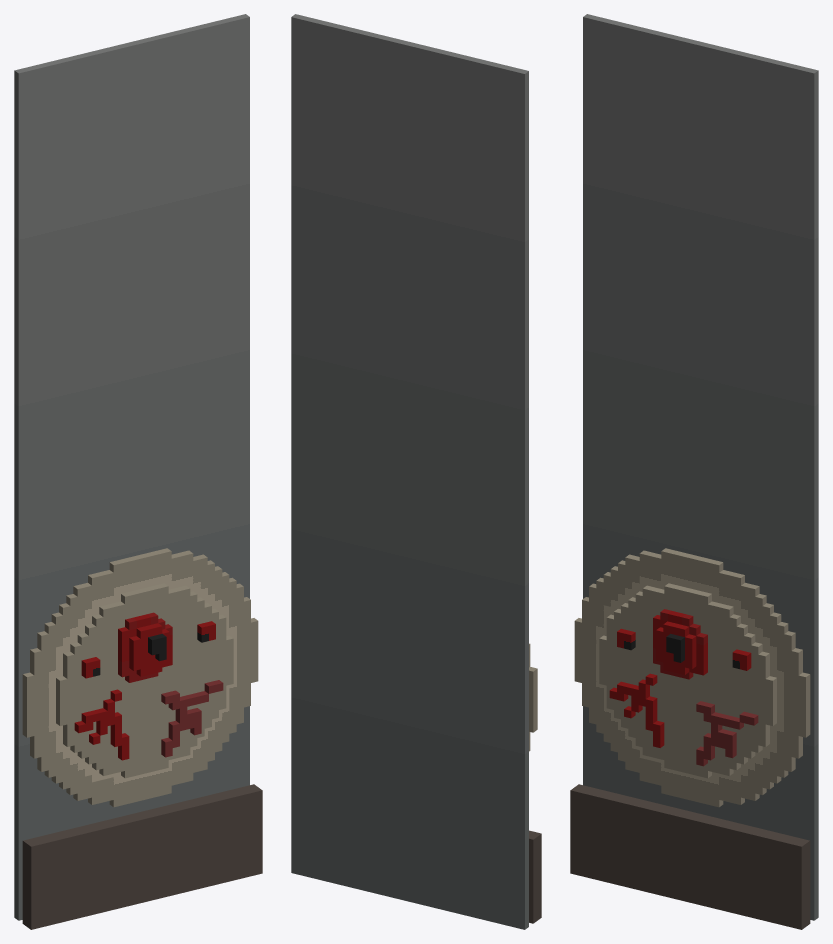
File: scene_bird_on_a_stick.glb
3 renders of one model, left to right at view 1: azimuth 30°, elevation 25°; view 2: azimuth 150°, elevation 25°; view 3: azimuth 330°, elevation 25°, orthographic.
Visible parts, largest first — view 1: scene_bird_on_a_plate_63, scene_bird_on_a_plate_62; view 2: scene_bird_on_a_plate_63, scene_bird_on_a_plate_62; view 3: scene_bird_on_a_plate_63, scene_bird_on_a_plate_62.
Boxes of the visible parts, box(x1,y1,x2,y2) form: scene_bird_on_a_plate_63: box(14, 14, 249, 920); scene_bird_on_a_plate_62: box(22, 548, 262, 929); scene_bird_on_a_plate_63: box(291, 14, 528, 929); scene_bird_on_a_plate_62: box(529, 643, 541, 923); scene_bird_on_a_plate_63: box(583, 14, 818, 920); scene_bird_on_a_plate_62: box(570, 548, 810, 929).
Bounding box in the file's own units: 3.2 × 11.2 × 0.7.
1 material, 1 textured.
